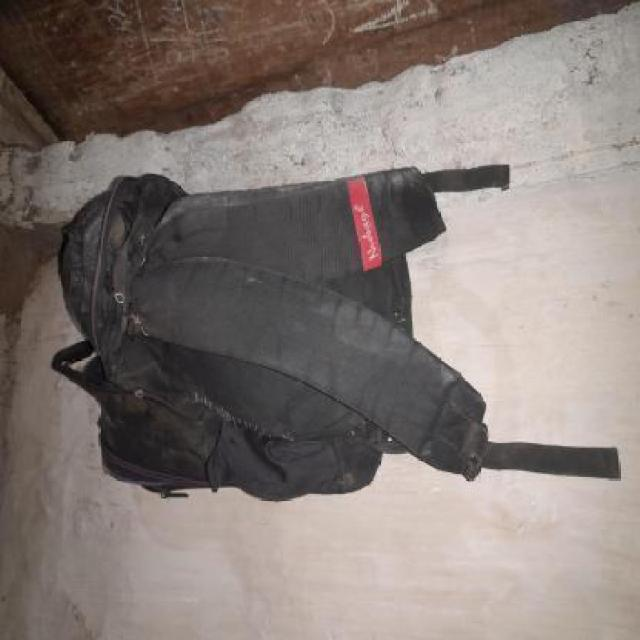backpack: (49, 160, 500, 506)
